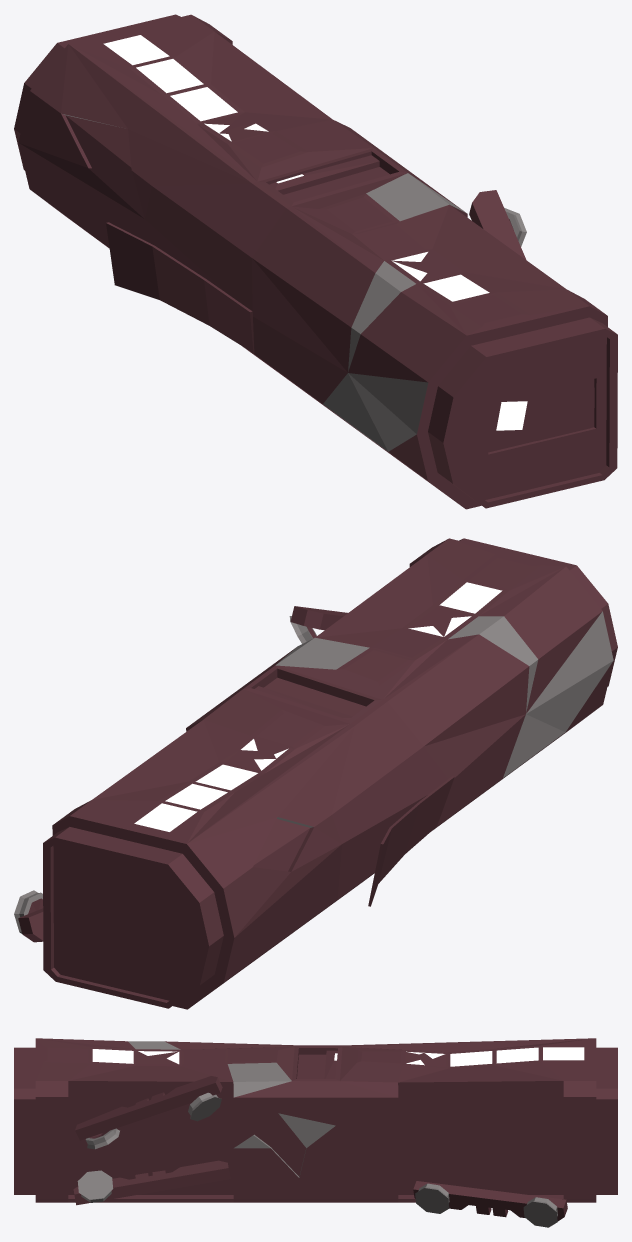
Rendered from apocalypse-train-speed-wagon-apocalypse-a.glb.
3 renders of one model, top to bottom at view 1: azimuth 30°, elevation 25°; view 2: azimuth 150°, elevation 25°; view 3: azimuth 270°, elevation 25°, orthographic. The views are drawn at different scales.
Visible parts, largest first — view 1: train-speed-wagon-apocalypse-a; view 2: train-speed-wagon-apocalypse-a; view 3: train-speed-wagon-apocalypse-a.
Part boxes in pixels (x1,y1,x2,y2): train-speed-wagon-apocalypse-a: (14,14,617,509); train-speed-wagon-apocalypse-a: (14,538,617,1009); train-speed-wagon-apocalypse-a: (14,1038,617,1227).
Bounding box in the file's own units: 5.51 × 3.37 × 13.89.
